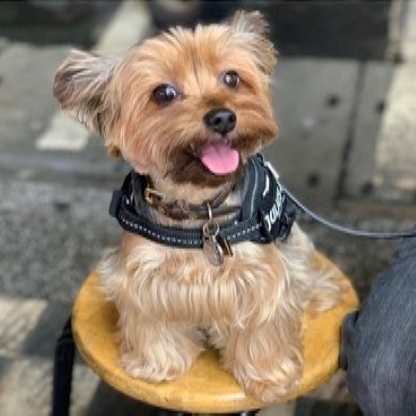yorkshire: (53, 6, 349, 407)
